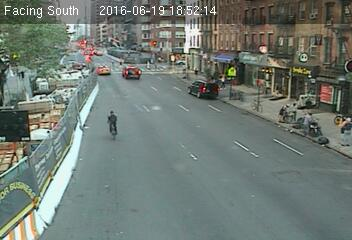neg: (188, 77, 222, 122), (149, 119, 174, 152), (16, 121, 41, 154), (66, 170, 89, 201), (258, 116, 281, 146), (104, 41, 124, 68), (59, 78, 76, 102), (257, 60, 274, 83), (137, 63, 154, 86), (202, 46, 219, 68), (297, 92, 312, 111), (302, 127, 313, 142)
pos: (104, 108, 128, 141)
